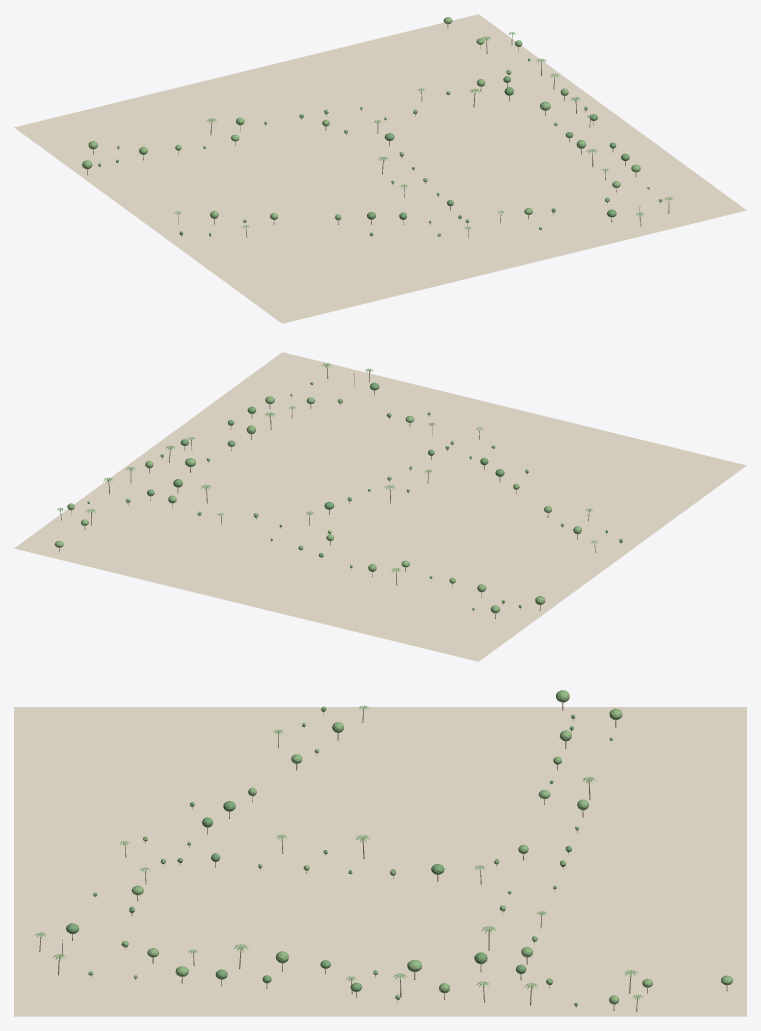
The model's file is nature_2_-1.glb.
3 views of the same model, one above another, from view 1: azimuth 30°, elevation 25°; view 2: azimuth 150°, elevation 25°; view 3: azimuth 270°, elevation 25° (orthographic). The views are drawn at different scales.
Parts seen in each view (by area): view 1: ground, foliage_b, foliage_a, trunk, palm_leaf; view 2: ground, foliage_b, foliage_a, trunk, palm_leaf; view 3: ground, foliage_b, foliage_a, trunk, palm_leaf.
Part boxes in pixels (bbox=[...]): ground: bbox=[14, 14, 746, 323]; foliage_b: bbox=[82, 17, 662, 236]; foliage_a: bbox=[98, 58, 629, 236]; trunk: bbox=[87, 24, 669, 238]; palm_leaf: bbox=[174, 32, 673, 229]; ground: bbox=[14, 352, 746, 661]; foliage_b: bbox=[54, 382, 581, 613]; foliage_a: bbox=[87, 382, 622, 607]; trunk: bbox=[59, 365, 606, 618]; palm_leaf: bbox=[57, 363, 597, 572]; ground: bbox=[14, 707, 746, 1016]; foliage_b: bbox=[88, 690, 732, 1004]; foliage_a: bbox=[66, 706, 577, 1006]; trunk: bbox=[39, 702, 727, 1011]; palm_leaf: bbox=[34, 705, 642, 999].
Size of the model in its own units: 250 by 8.79 by 250.
